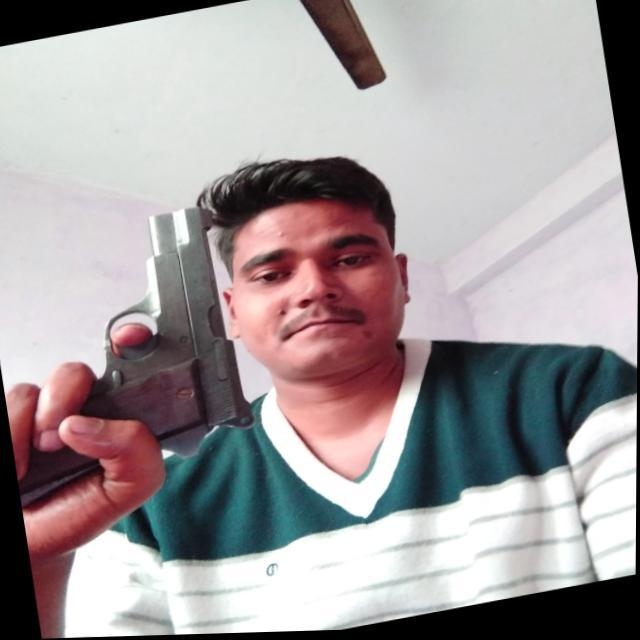weapon: (0, 193, 273, 518)
